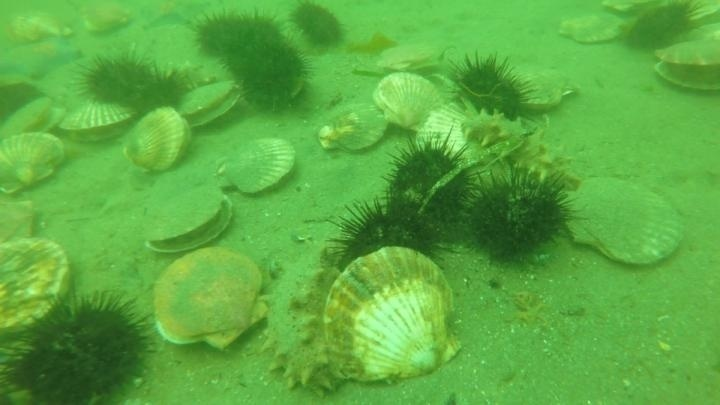echinus: (4, 286, 157, 405), (460, 164, 580, 269), (329, 194, 449, 279), (380, 133, 481, 229), (445, 51, 538, 127), (227, 36, 314, 115), (77, 48, 158, 112), (620, 1, 707, 55), (224, 11, 287, 71), (124, 65, 191, 120), (191, 9, 246, 66), (288, 1, 347, 50), (1, 79, 44, 126)
holothurian: (254, 242, 357, 397), (458, 106, 586, 194), (161, 56, 237, 95)
scallop: (320, 245, 465, 389), (254, 241, 356, 397), (149, 245, 271, 355), (555, 173, 690, 271), (134, 163, 237, 259), (1, 233, 74, 340), (217, 134, 299, 198), (120, 106, 193, 176), (370, 69, 448, 133), (46, 95, 140, 147), (502, 56, 580, 117), (1, 129, 68, 198), (413, 101, 480, 168), (315, 98, 391, 156), (650, 36, 720, 98), (356, 40, 449, 81), (175, 77, 245, 131), (161, 56, 238, 95), (1, 94, 59, 143), (555, 8, 626, 48), (5, 3, 70, 43), (79, 2, 134, 39)
starfish: (1, 32, 82, 86), (344, 27, 401, 59), (140, 1, 194, 32)
